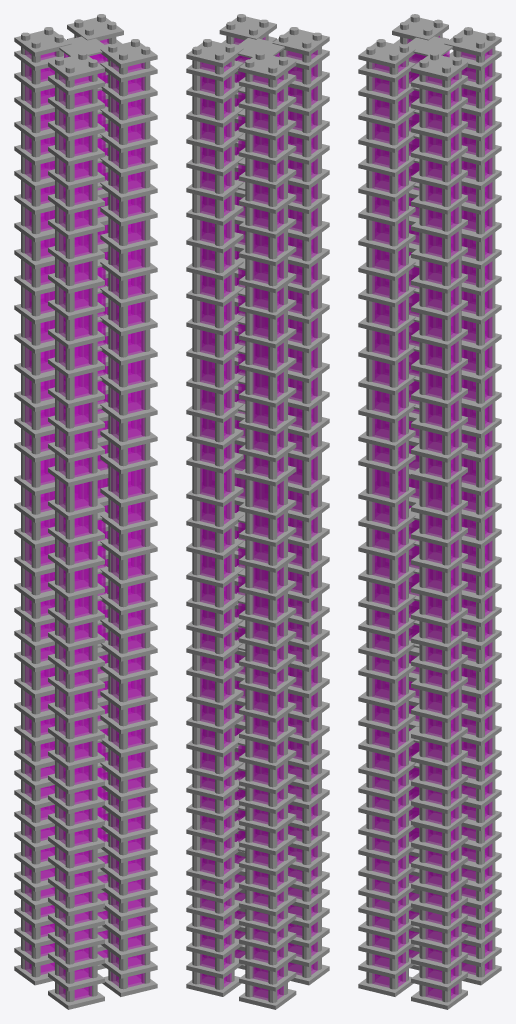
File: Building_5.fbx
The picture shows the model from 3 angles, left to right: view 1: azimuth 30°, elevation 25°; view 2: azimuth 150°, elevation 25°; view 3: azimuth 330°, elevation 25°; orthographic projection.
Parts seen in each view (by area): view 1: pCube8394; view 2: pCube8394; view 3: pCube8394.
Part boxes in pixels (x1,y1,x2,y2): pCube8394: [14, 14, 157, 1009]; pCube8394: [186, 14, 329, 1009]; pCube8394: [358, 14, 501, 1009].
Bounding box in the file's own units: 22.48 × 226 × 23.52.
